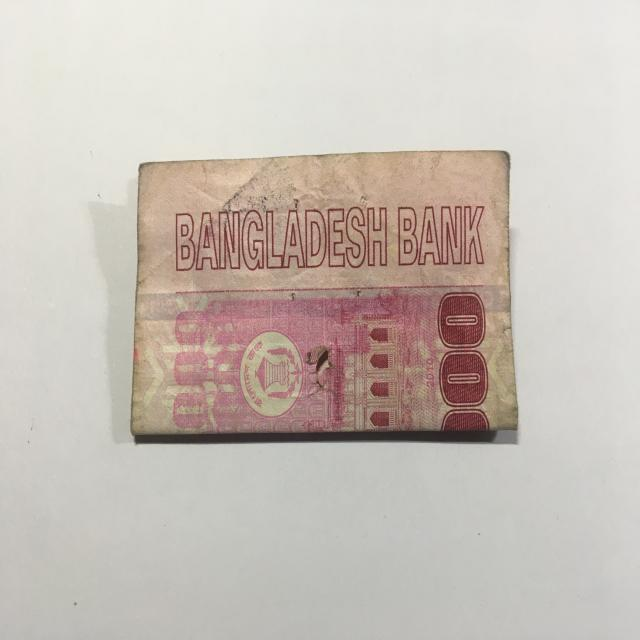Taka: (135, 152, 522, 440)
